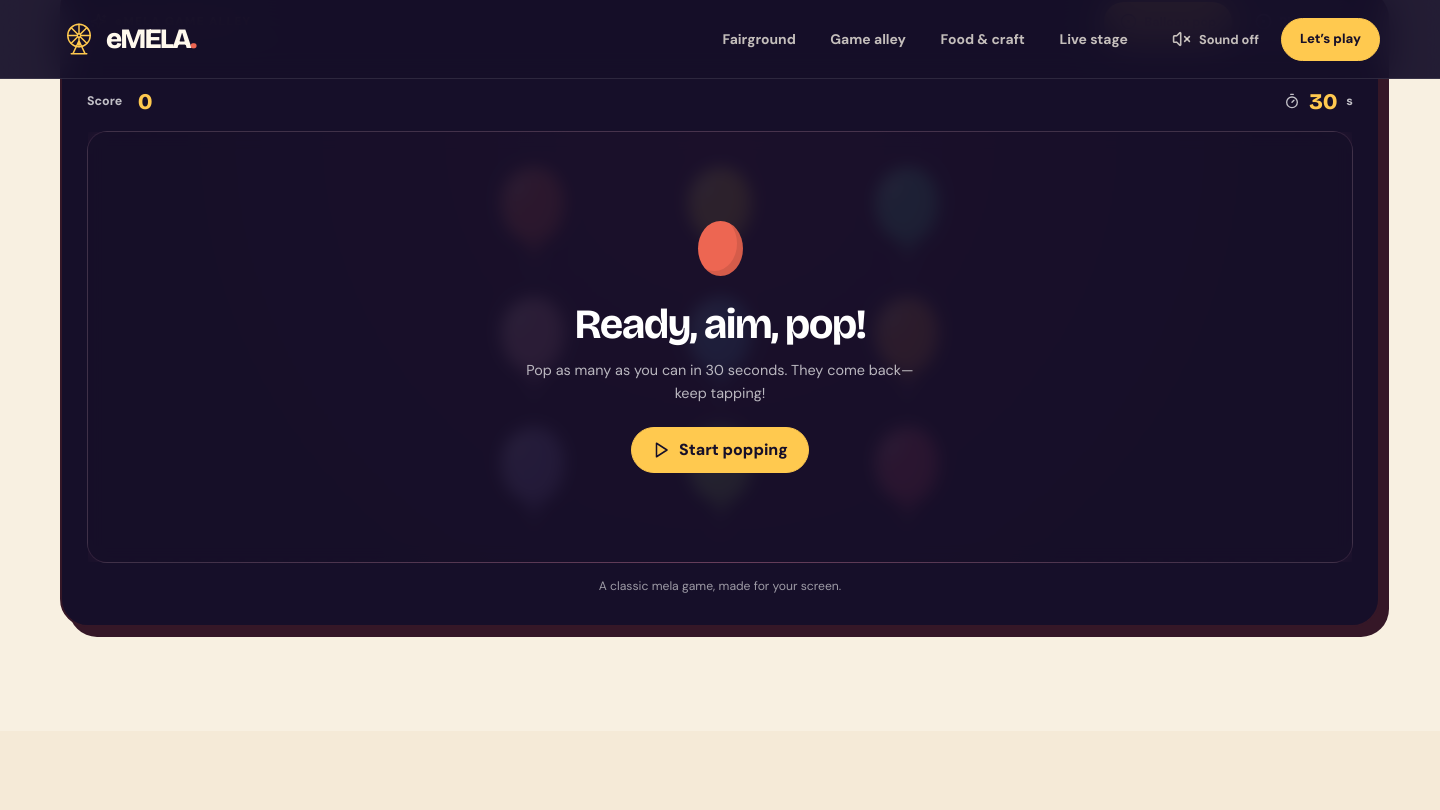
Test: eMELA interactive fair › plays balloon pop and increments the score
The width and height of the screenshot is (1440, 810).
(page scrolled)
Step 1. Click the button "Start popping" → (720, 450), box [631,427,809,473]
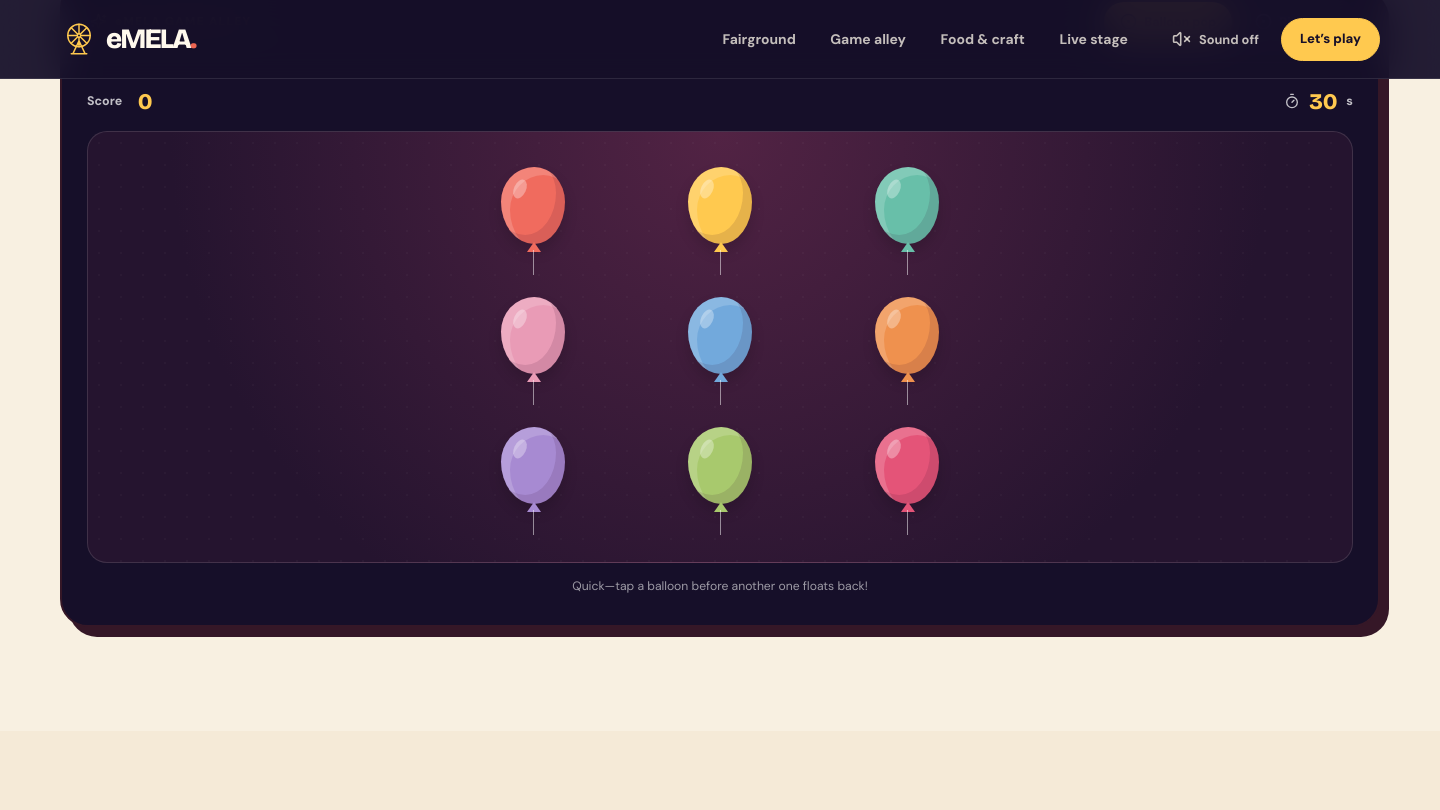
Step 2. Click the button named "Pop coral balloon 1" → (533, 217), box [440,159,627,275]
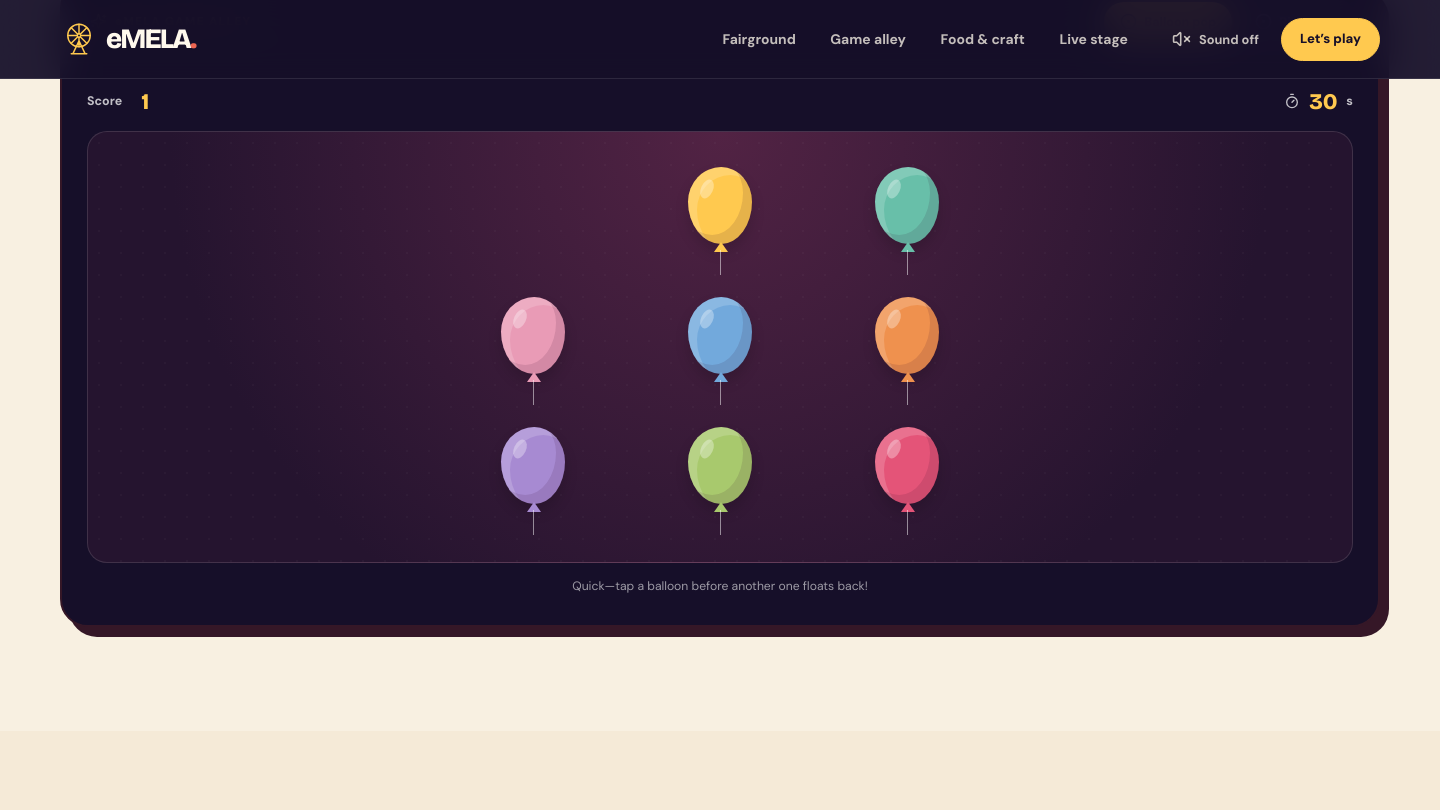
Check: the text named "Balloon score" reads "1", box [141,88,149,115]
